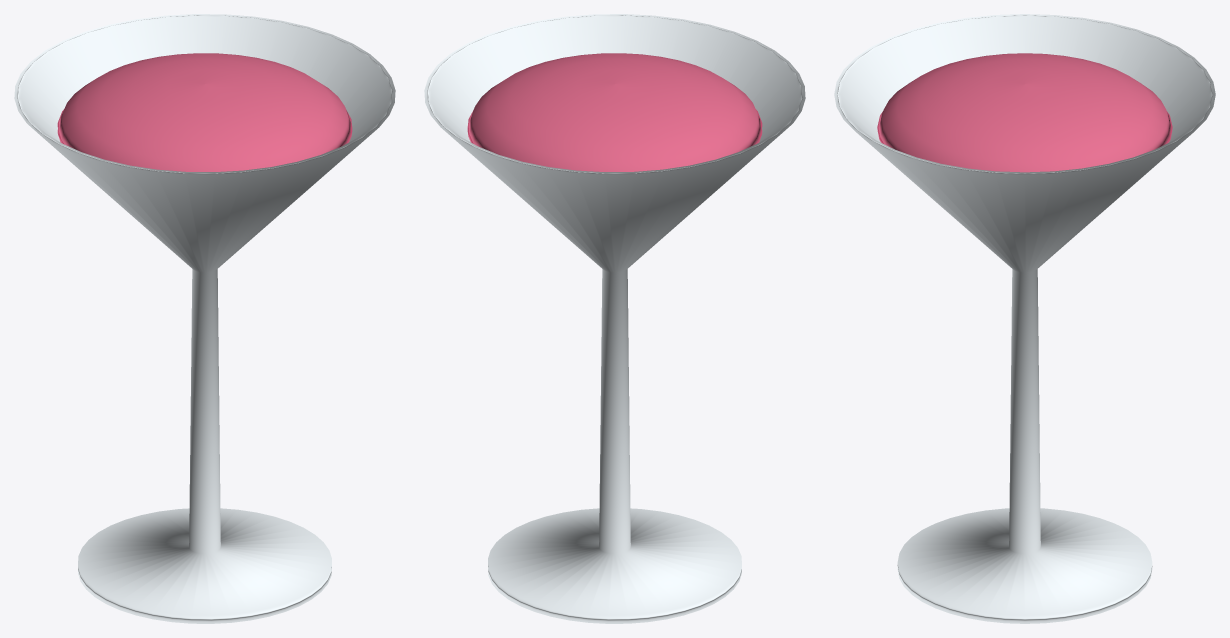
Rendered from cocktail-daiquiri-frozen.glb.
The picture shows the model from 3 angles, left to right: view 1: azimuth 30°, elevation 25°; view 2: azimuth 150°, elevation 25°; view 3: azimuth 270°, elevation 25°; orthographic projection.
Bounding box in the file's own units: 0.12 × 0.1686 × 0.12.
